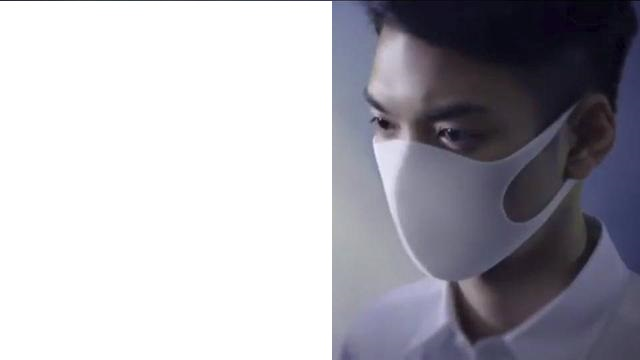face_mask: (367, 41, 532, 282)
